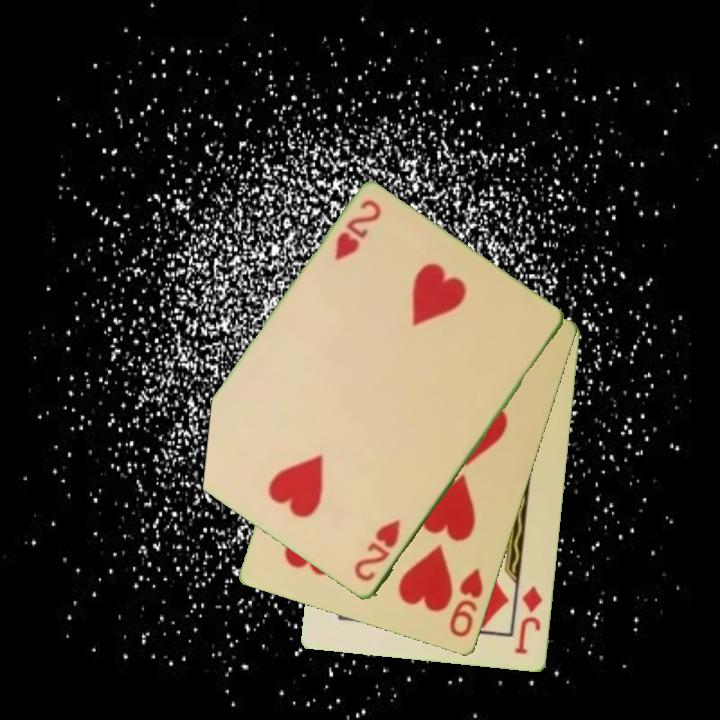2h: (350, 516, 404, 585), (331, 196, 385, 264)
9h: (446, 566, 487, 641)
Jd: (511, 583, 546, 658)
